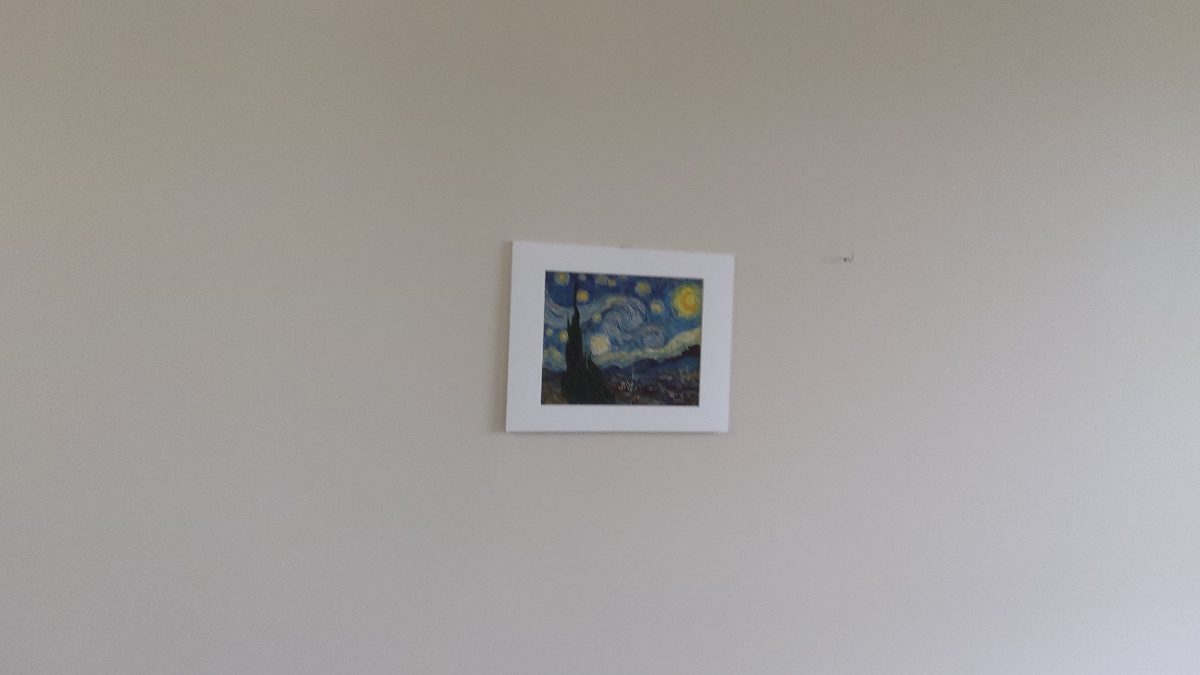painting: (533, 261, 705, 413)
